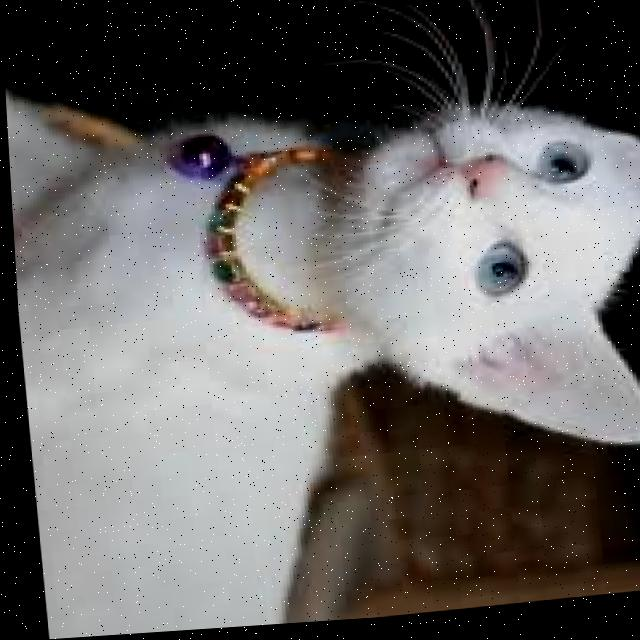Khao Manee: (2, 10, 640, 640)
